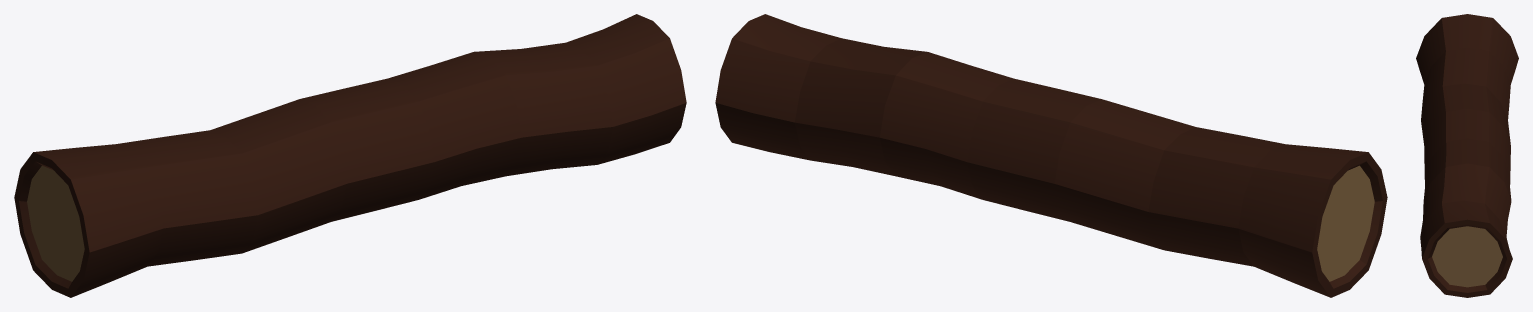
The model's file is woodLog.fbx.
The picture shows the model from 3 angles, left to right: view 1: azimuth 30°, elevation 25°; view 2: azimuth 150°, elevation 25°; view 3: azimuth 270°, elevation 25°; orthographic projection. The views are drawn at different scales.
Visible parts, largest first — view 1: Cylinder.000; view 2: Cylinder.000; view 3: Cylinder.000.
Part boxes in pixels (x1,y1,x2,y2): Cylinder.000: (14,14,686,297); Cylinder.000: (715,14,1387,297); Cylinder.000: (1416,14,1518,297).
Bounding box in the file's own units: 569 × 117 × 123.
